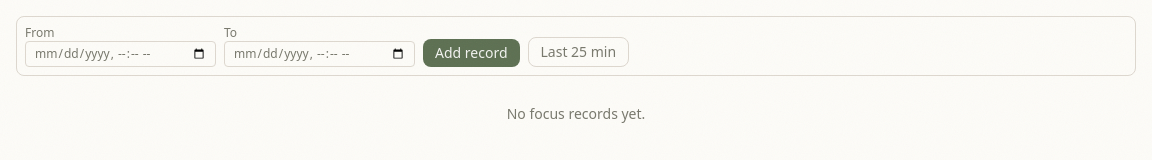
it: Focus UI › adds a manual focus record
Click the button "Last 25 min" at (578, 52), box [528,37,629,67]
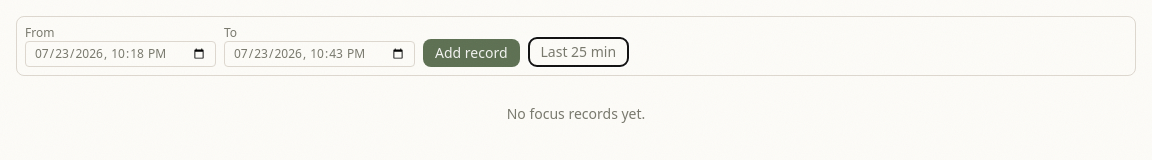
Click the button "Add record" at (471, 53), box [423,39,520,67]
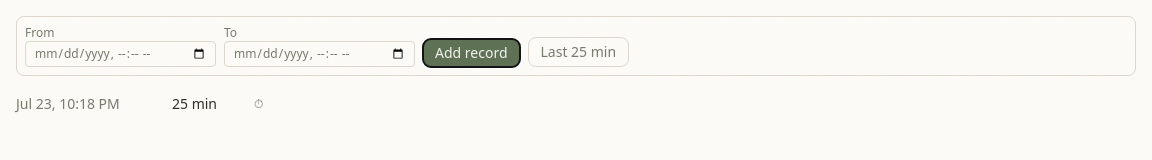
Check: the text "25 min" is shown, box [172,94,217,113]
